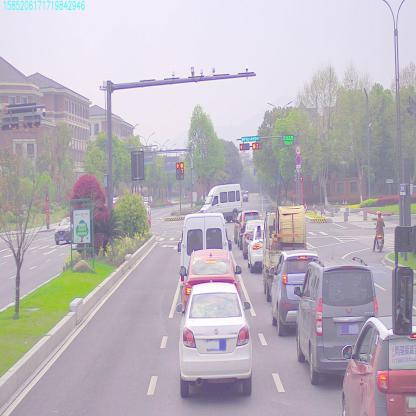traffic-light: (241, 136, 262, 141), (240, 142, 249, 151), (252, 142, 261, 149)
